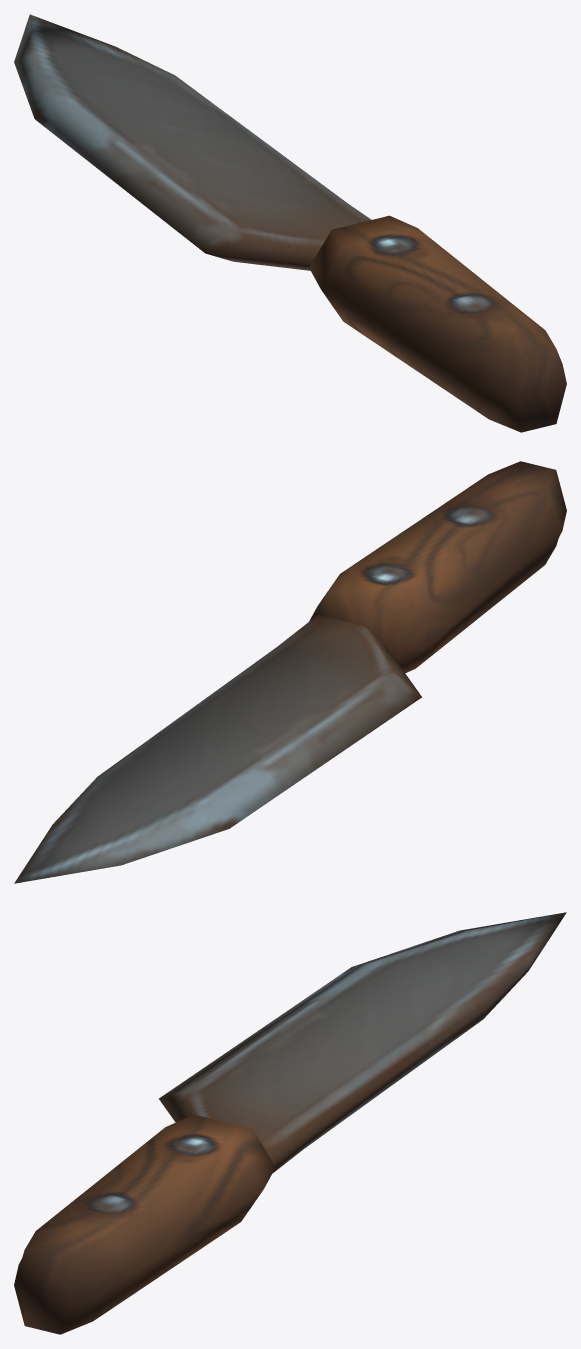
File: knife1.fbx
3 views of the same model, one above another, from view 1: azimuth 30°, elevation 25°; view 2: azimuth 150°, elevation 25°; view 3: azimuth 330°, elevation 25° (orthographic).
Visible parts, largest first — view 1: knife1; view 2: knife1; view 3: knife1.
Boxes of the visible parts, x1,y1,x2,y2 form: knife1: (14,14,566,432); knife1: (14,461,566,883); knife1: (14,912,566,1334).
Size of the model in its own units: 10.48 by 4.45 by 55.01.
